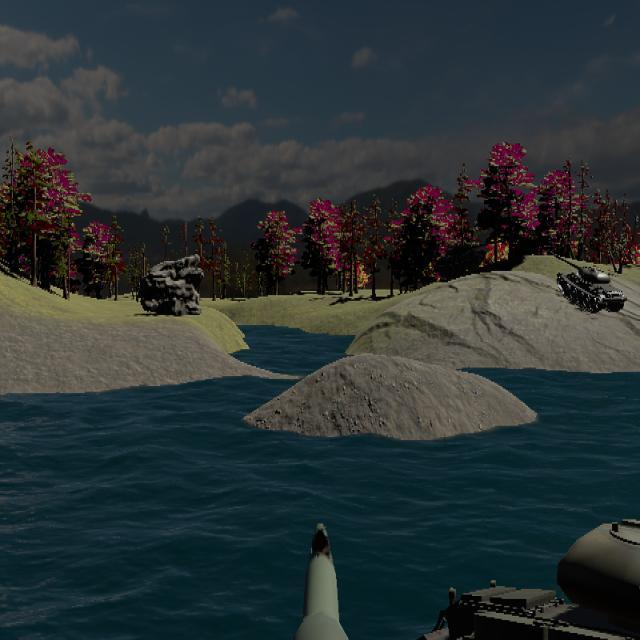Tank: (408, 512, 640, 639), (542, 250, 626, 314)
